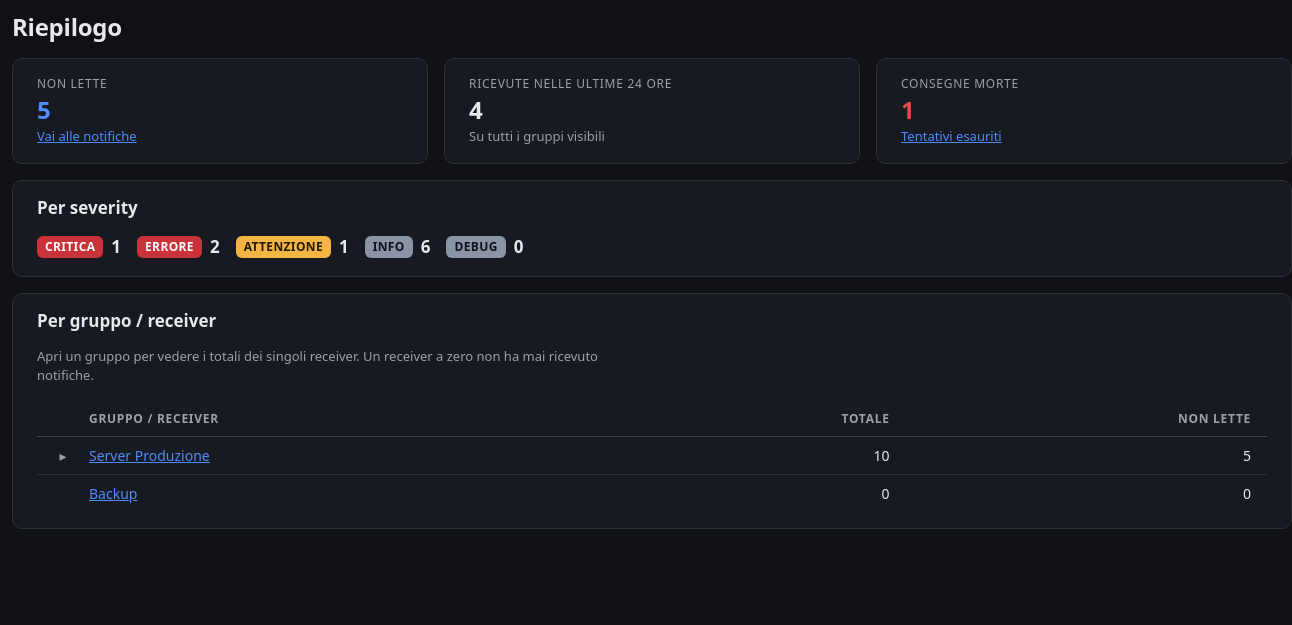
Test: HomePage › T-UI22 test_riepilogo_espande_i_receiver: i receiver del gruppo compaiono solo da aperti
Expected: the link "Server Produzione" is shown, [89,446,210,465]
Expected: the link "Backup notturno" is not shown
Click the button named "mostra i receiver di server produzione": {"x": 63, "y": 456} [53,449,73,463]
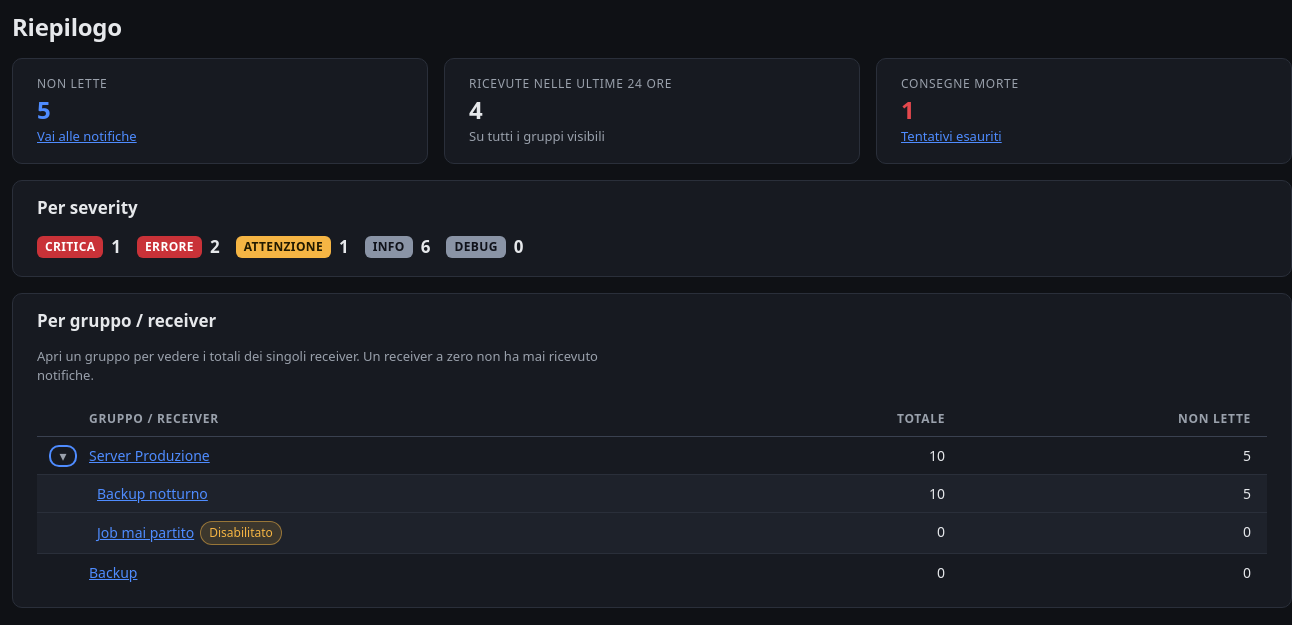
Expected: the link "Job mai partito" is shown, [97,522,194,543]
Expected: the text "Disabilitato" is shown, [200,521,282,545]
Click the button named "nascondi i receiver di server produzione": {"x": 63, "y": 456} [53,449,73,463]
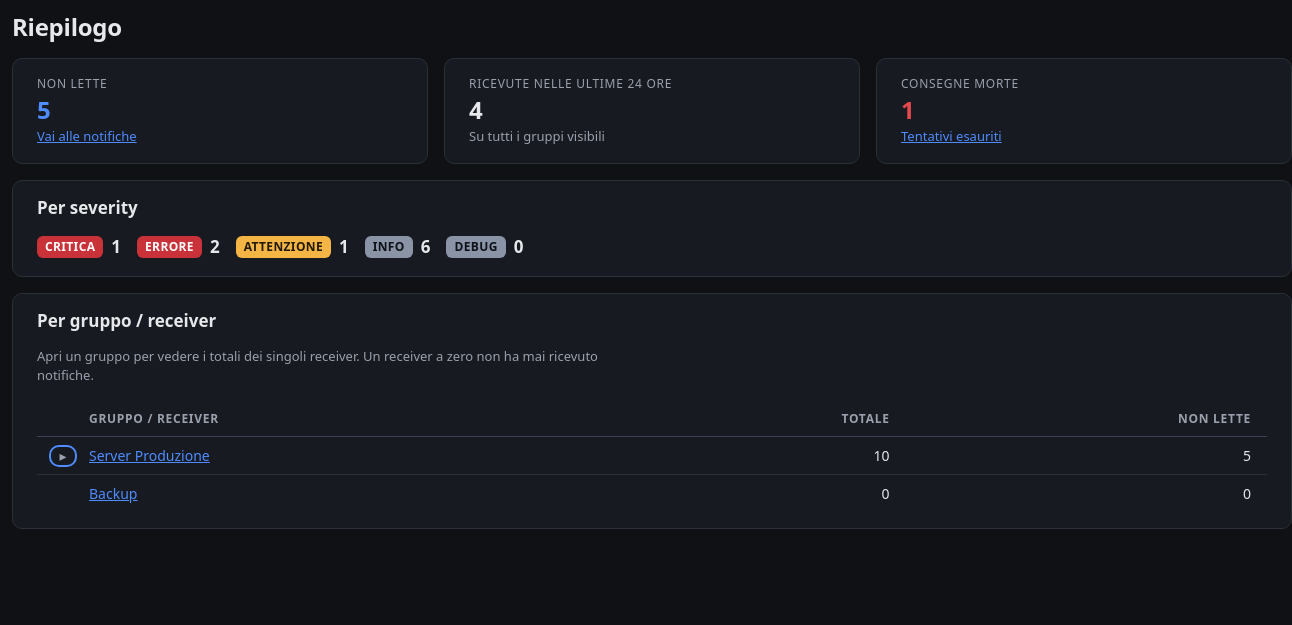
Expected: the link "Backup notturno" is gone
